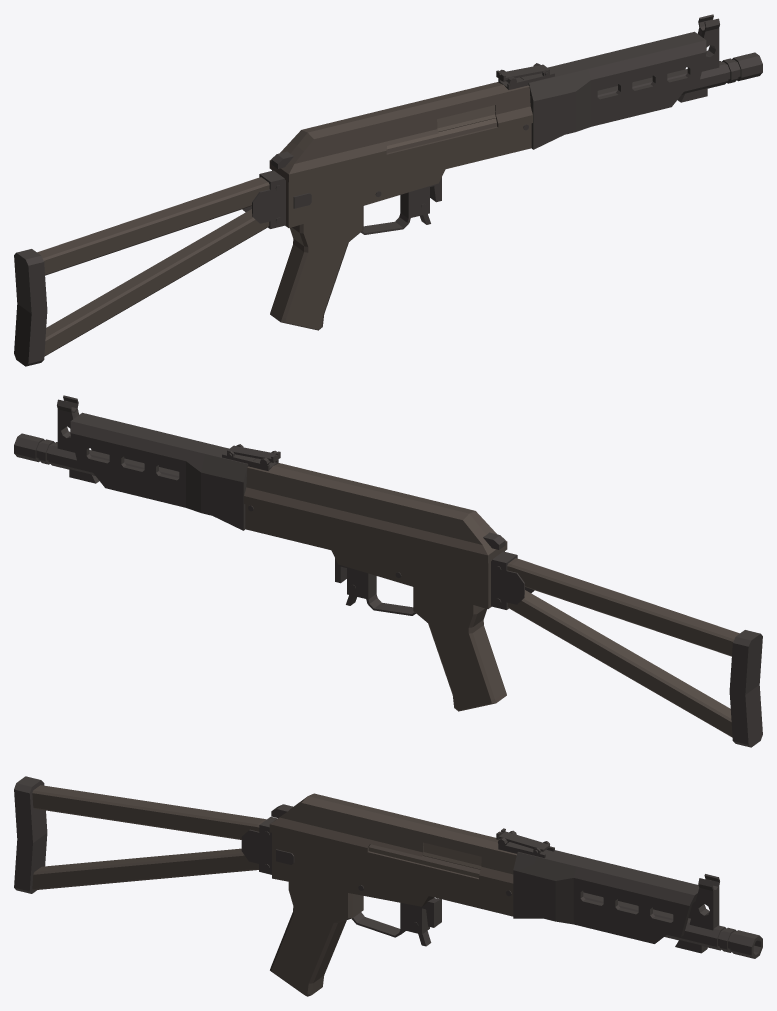
The model's file is SMG5_03.fbx.
3 views of the same model, one above another, from view 1: azimuth 30°, elevation 25°; view 2: azimuth 150°, elevation 25°; view 3: azimuth 330°, elevation 25° (orthographic).
Visible parts, largest first — view 1: SMG5_03; view 2: SMG5_03; view 3: SMG5_03.
Boxes of the visible parts, bbox=[...] form: SMG5_03: bbox=[14, 14, 762, 366]; SMG5_03: bbox=[14, 395, 762, 747]; SMG5_03: bbox=[14, 776, 762, 996].
Bounding box in the file's own units: 0.8851 × 0.2432 × 0.0422.
